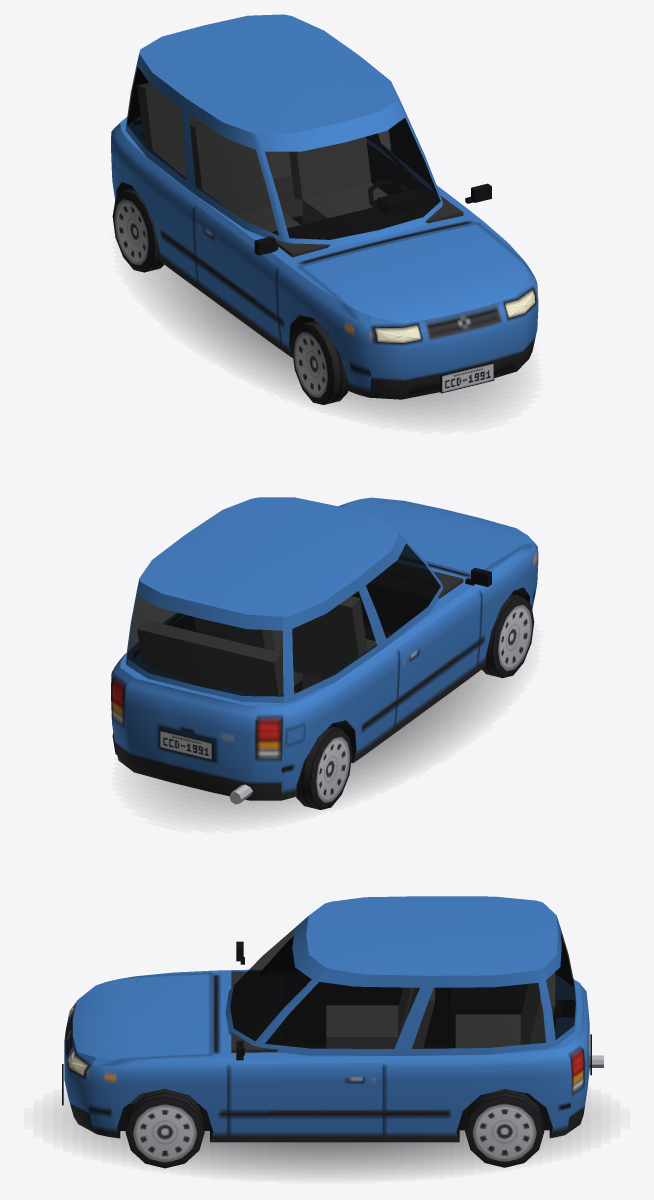
Rendered from cocada.glb.
The picture shows the model from 3 angles, top to bottom: view 1: azimuth 30°, elevation 25°; view 2: azimuth 150°, elevation 25°; view 3: azimuth 270°, elevation 25°; orthographic projection. The views are drawn at different scales.
Visible parts, largest first — view 1: Carroceria, Interior, Capo_malha, Porta_D_malha, Sombra, Roda_DD, Roda_TD, Porta_E_malha; view 2: Carroceria, Tampa_malha, Interior, Porta_D_malha, Sombra, Capo_malha, Roda_TD, Roda_DD, Lanterna; view 3: Carroceria, Porta_E_malha, Interior, Sombra, Capo_malha, Roda_DE, Roda_TE, Tampa_malha, Porta_D_malha.
Boxes of the visible parts, x1,y1,x2,y2 form: Carroceria: [111, 14, 538, 399]; Interior: [134, 83, 463, 320]; Capo_malha: [299, 223, 533, 325]; Porta_D_malha: [194, 115, 284, 340]; Sombra: [139, 265, 518, 420]; Roda_DD: [292, 320, 348, 404]; Roda_TD: [112, 188, 164, 272]; Porta_E_malha: [389, 97, 491, 203]; Carroceria: [111, 497, 538, 804]; Tampa_malha: [124, 582, 283, 779]; Interior: [134, 562, 463, 695]; Porta_D_malha: [382, 533, 491, 723]; Sombra: [135, 670, 509, 819]; Capo_malha: [339, 497, 533, 573]; Roda_TD: [296, 726, 352, 809]; Roda_DD: [482, 593, 534, 678]; Lanterna: [112, 682, 279, 756]; Carroceria: [62, 896, 603, 1142]; Porta_E_malha: [228, 968, 383, 1133]; Interior: [129, 946, 573, 1103]; Sombra: [63, 1106, 590, 1175]; Capo_malha: [78, 973, 210, 1065]; Roda_DE: [125, 1089, 204, 1168]; Roda_TE: [465, 1089, 544, 1167]; Tampa_malha: [543, 916, 591, 1104]; Porta_D_malha: [236, 938, 297, 973].
Size of the model in its own units: 2.21 by 1.45 by 4.35.
12 materials, 6 textured.
